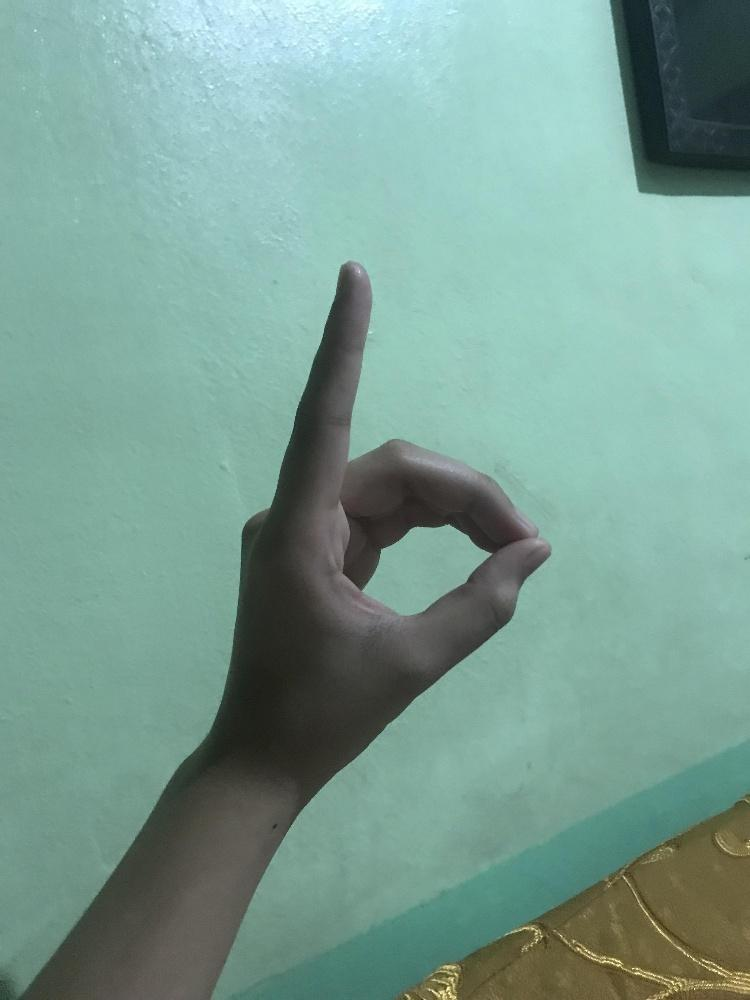d: (223, 257, 556, 785)
